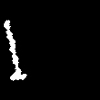half_double_crochet: (4, 20, 25, 79)
